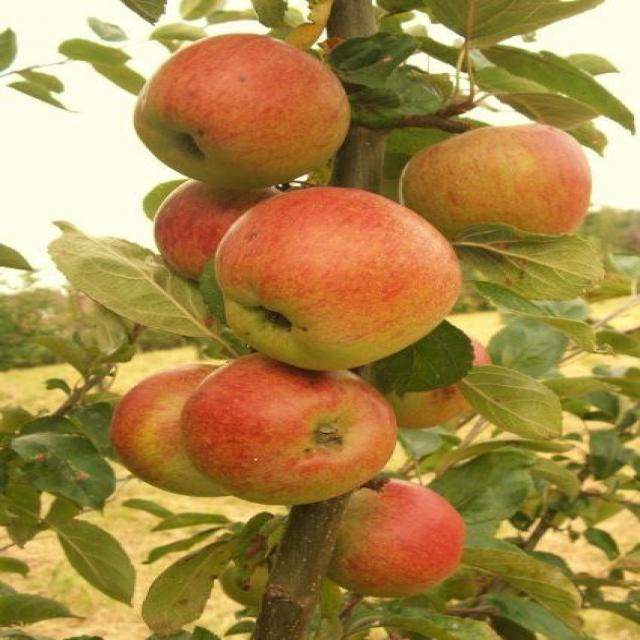Fresh Apple: (214, 192, 454, 398), (133, 47, 367, 195), (195, 366, 398, 506)
